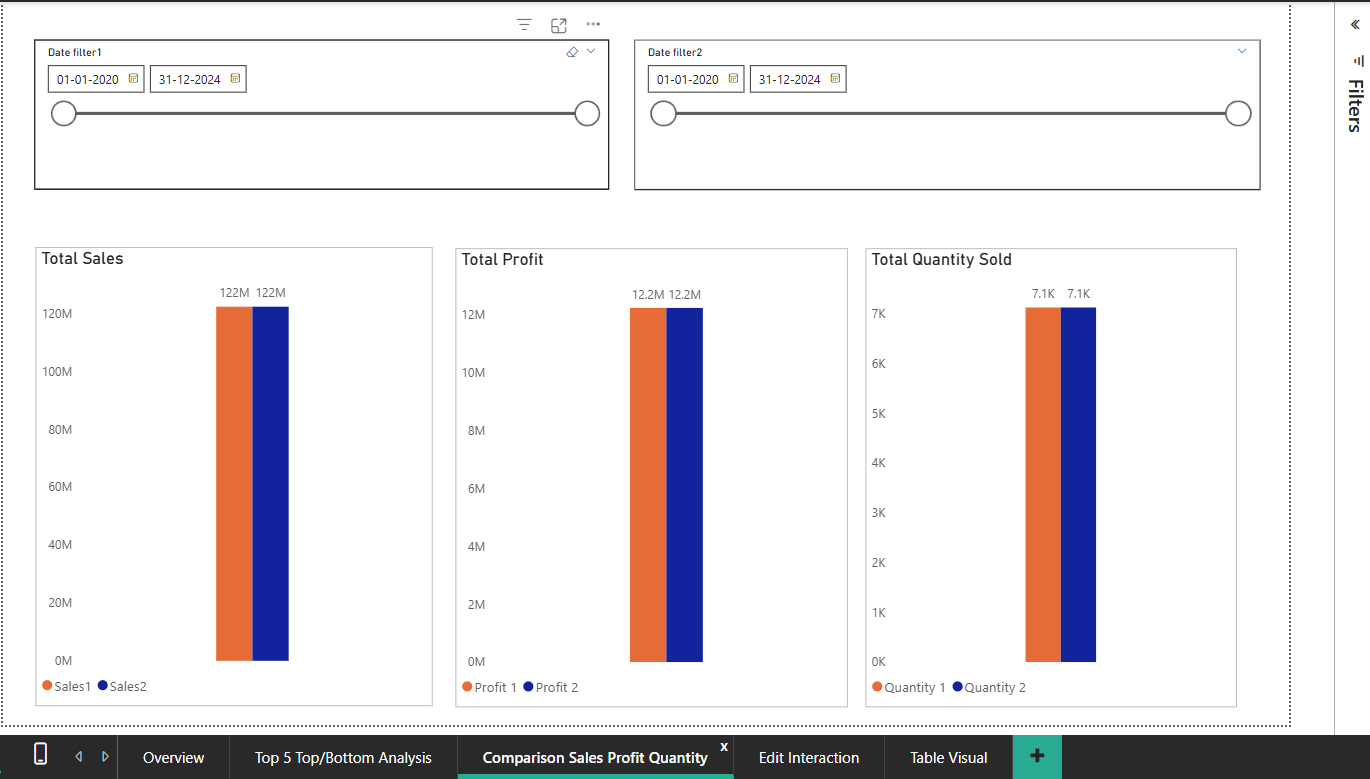

Layout of this report page (visuals, bound fields, positions):
{"tool":"powerbi","page":{"name":"Comparison Sales Profit Quantity","canvas":[1280,720],"ordinal":2},"visuals":[{"type":"slicer","fields":{"Values":["Date Table1.Date"]},"box":[31.1,37.3,572.2,149.3],"z":0},{"type":"slicer","fields":{"Values":["Date table2.Date"]},"box":[628.2,37.3,623.2,149.3],"z":1000},{"type":"clusteredColumnChart","title":"Total Sales","fields":{"Y":["Sum(Fact Table.Net Sales)","Date Table1.Sum of Net Sales"]},"box":[32.3,243.8,395.6,456.5],"z":2000},{"type":"clusteredColumnChart","title":"Total Profit","fields":{"Y":["Sum(Fact Table.Profit)","Measures Table.Sum of Profit"]},"box":[450.3,245.1,390.6,456.5],"z":3000},{"type":"clusteredColumnChart","title":"Total Quantity Sold","fields":{"Y":["Sum(Fact Table.Units Sold)","Measures Table.Sum of Quantity sold"]},"box":[858.3,245.1,369.5,456.5],"z":4000}]}

Visuals, with their boxes on the page's 1280x720 design canvas (x1, y1, x2, y2). These are canvas units, not pixel positions in the 1370x779 screenshot, which may show the page scaled, cropped or inside an application window:
slicer - Date Table1.Date: BBox(31, 37, 603, 187)
slicer - Date table2.Date: BBox(628, 37, 1251, 187)
"Total Sales" clusteredColumnChart: BBox(32, 244, 428, 700)
"Total Profit" clusteredColumnChart: BBox(450, 245, 841, 702)
"Total Quantity Sold" clusteredColumnChart: BBox(858, 245, 1228, 702)
